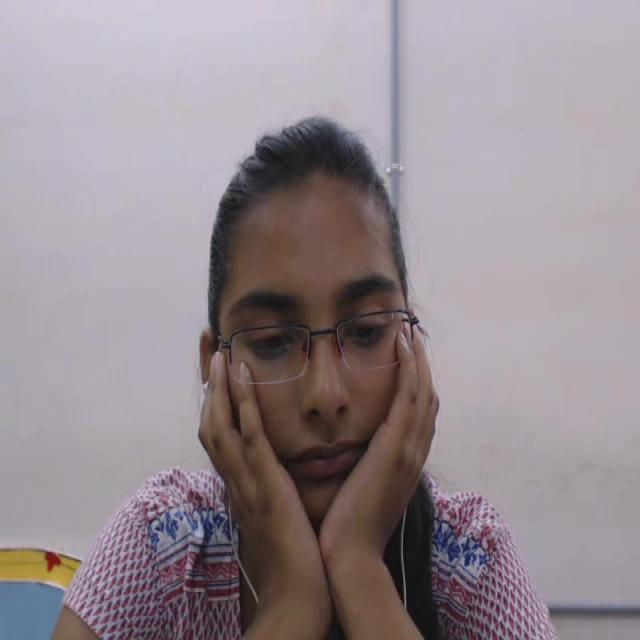Bored: (158, 94, 464, 570)
